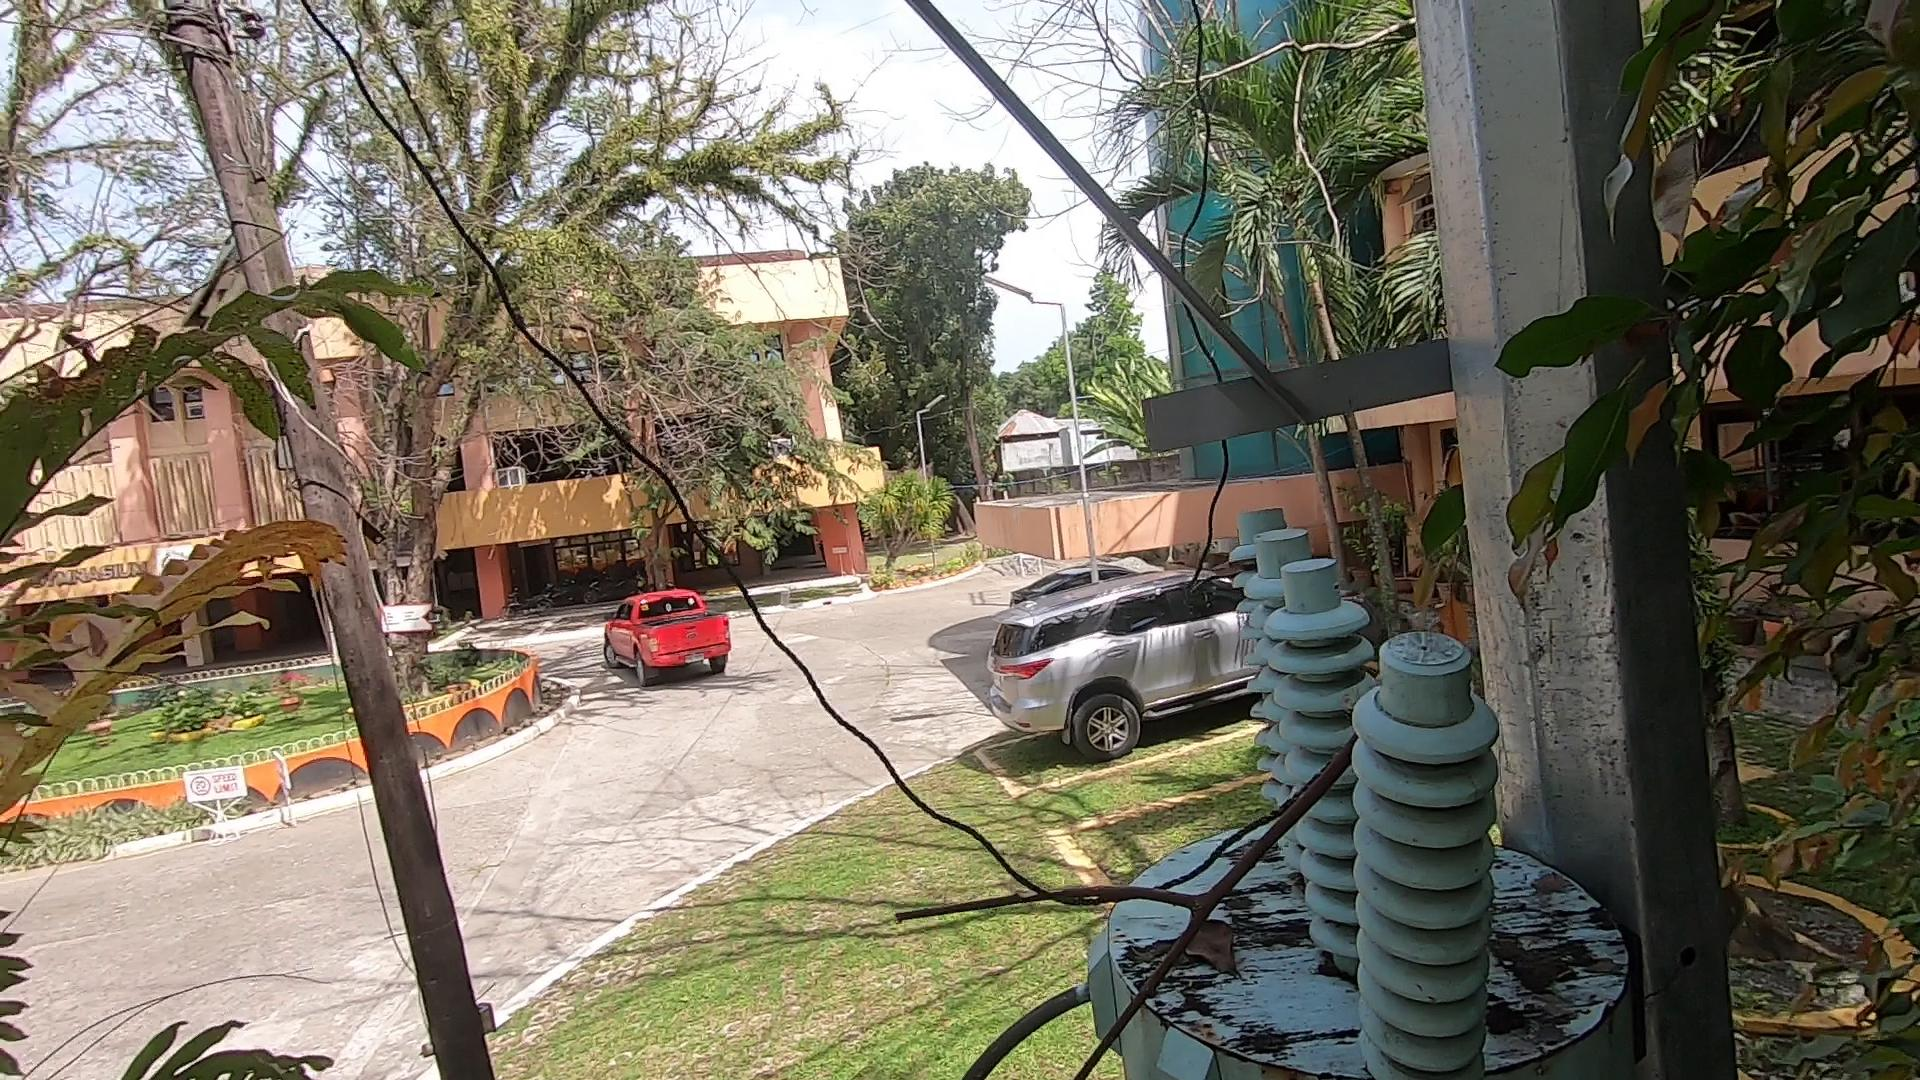leaf: (1176, 899, 1269, 982)
tree branch: (870, 712, 1393, 1080)
